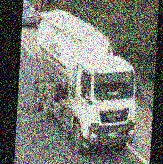truck: (27, 7, 143, 155)
